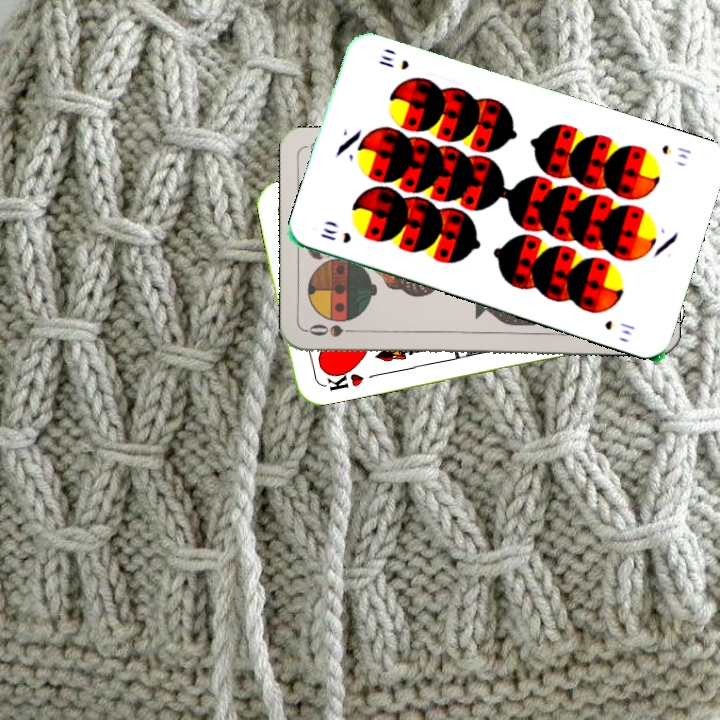HK: (315, 363, 367, 394)
S10: (316, 223, 354, 246), (657, 141, 694, 162)
SO: (304, 320, 363, 339)
